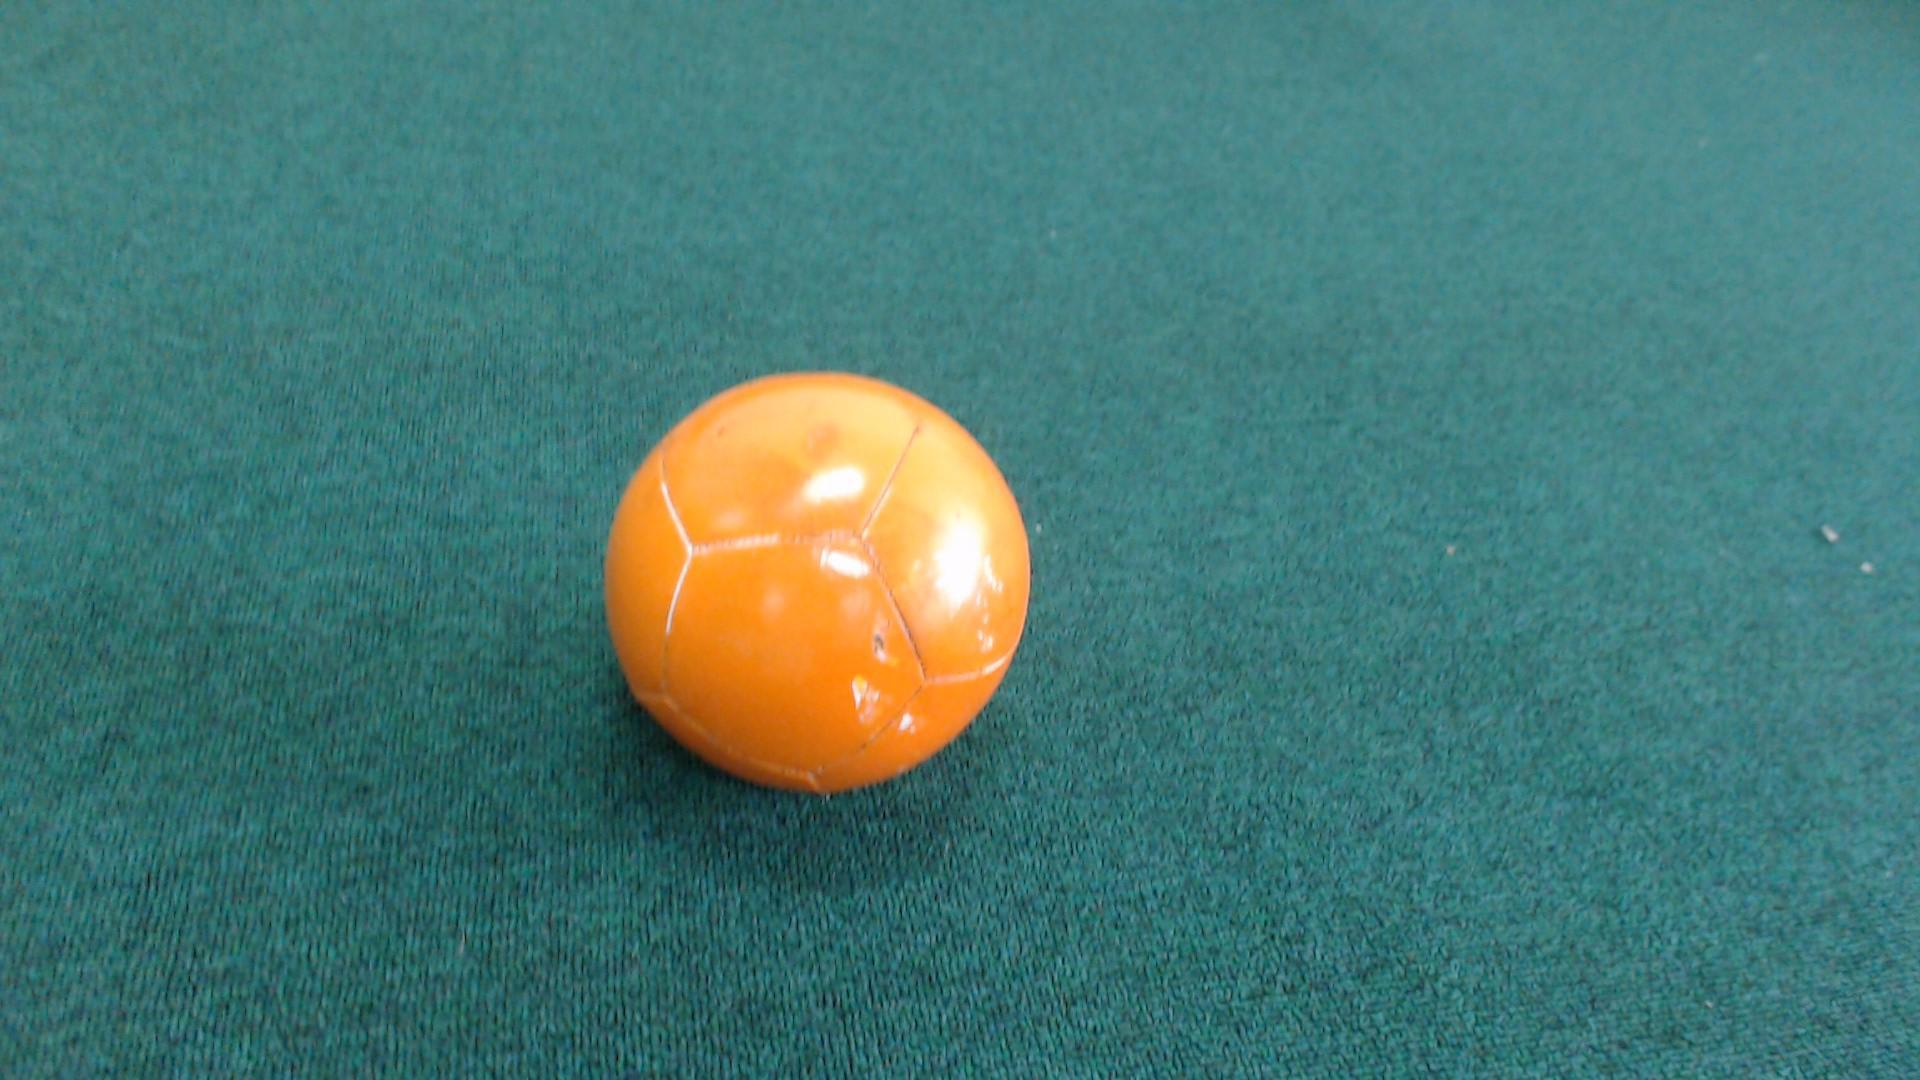bola: (554, 345, 1092, 840)
